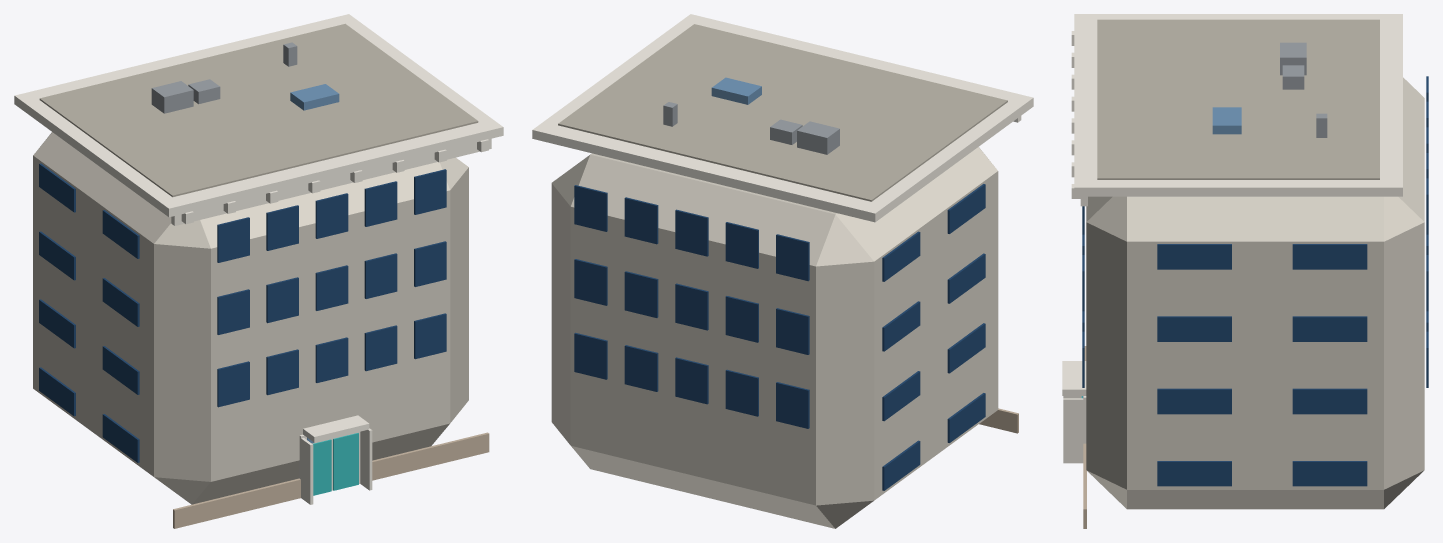
The model's file is apt_w16_f4_punched.glb.
The picture shows the model from 3 angles, left to right: view 1: azimuth 30°, elevation 25°; view 2: azimuth 150°, elevation 25°; view 3: azimuth 270°, elevation 25°; orthographic projection. The views are drawn at different scales.
Visible parts, largest first — view 1: walls, roofslab, corn, bsmt, frieze, door.001, win.007, win.002, win.008, win.003, win.013, win.012 (+24 smaller); view 2: walls, roofslab, corn, win.028, win.018, win.023, win.015, win.016, win.019, win.024, win.025, win.029 (+18 smaller); view 3: walls, roofslab, corn, sb.007, sb.005, sb.011, sb.015, sb.003, sb.001, sb.009, sb.013, cpost.001 (+4 smaller).
Part boxes in pixels (x1,y1,x2,y2): walls: (33,132,468,504); roofslab: (39,23,478,197); corn: (14,14,503,217); bsmt: (173,432,489,528); frieze: (171,138,491,225); door.001: (333,433,358,490); win.007: (315,265,348,310); win.002: (315,337,348,382); win.008: (364,253,397,298); win.003: (364,325,397,371); win.013: (364,181,397,226); win.012: (315,193,348,238); walls: (551,147,998,528); roofslab: (558,24,1007,201); corn: (532,14,1033,222); win.028: (624,197,658,244); win.018: (624,345,658,391); win.023: (624,271,658,317); win.015: (776,382,809,428); win.016: (725,369,758,416); win.019: (574,332,607,379); win.024: (574,259,607,305); win.025: (776,234,809,281); win.029: (574,185,607,231); walls: (1086,77,1424,509); roofslab: (1097,19,1379,179); corn: (1074,14,1402,196); sb.007: (1292,388,1367,414); sb.005: (1157,388,1231,414); sb.011: (1292,316,1367,341); sb.015: (1292,244,1367,269); sb.003: (1292,461,1367,486); sb.001: (1157,461,1231,486); sb.009: (1157,316,1231,341); sb.013: (1157,244,1231,269); cpost.001: (1063,398,1083,463).
Bounding box in the file's own units: 17 × 16.8 × 15.17.
